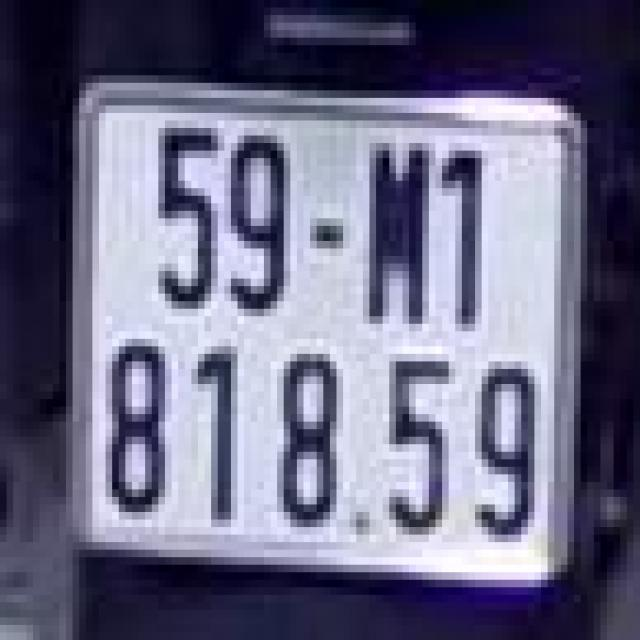1: (188, 339, 247, 542), (438, 143, 492, 339)
5: (376, 346, 462, 542), (148, 124, 221, 320)
8: (268, 338, 346, 534), (102, 335, 175, 538)
9: (465, 342, 551, 554), (224, 124, 297, 328)
M: (356, 128, 429, 331)
